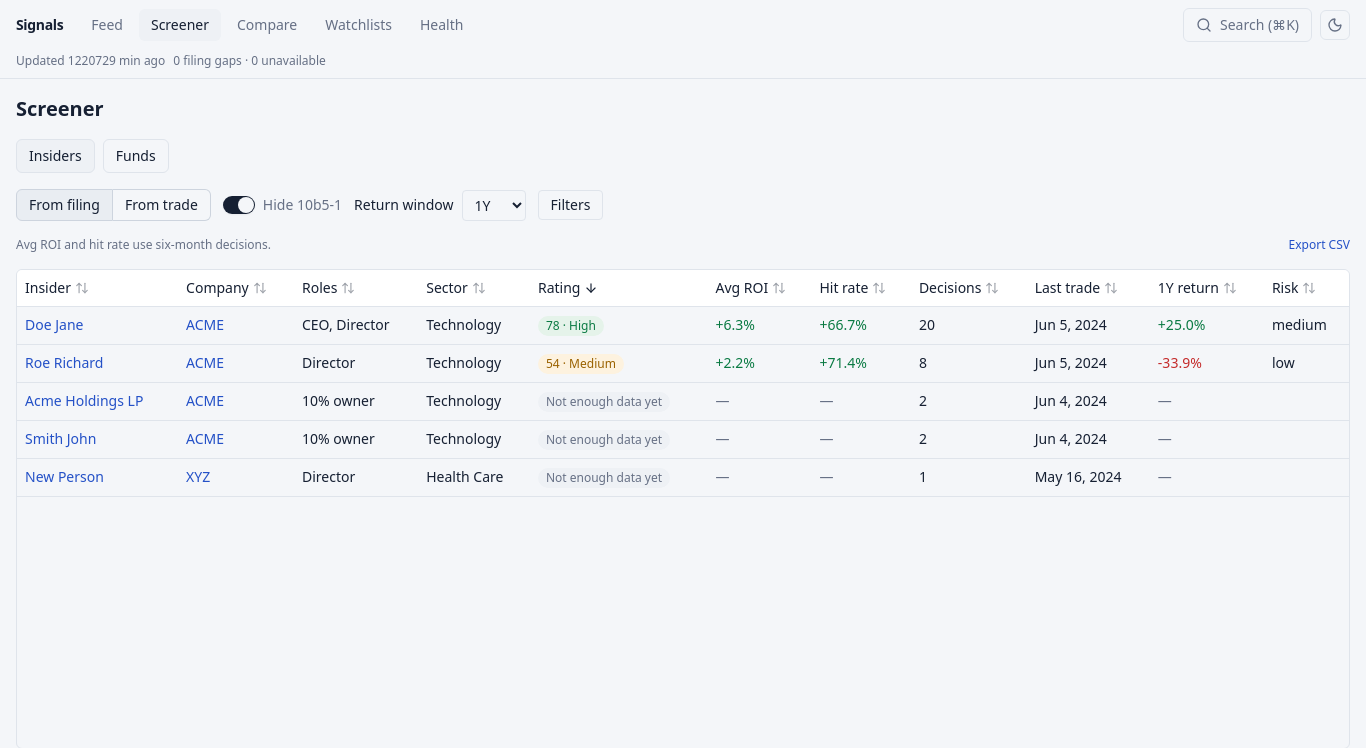
navigates an insider and a fund by CIK
Click the button "Search (⌘K)": [1248, 25] box [1183,8,1312,42]
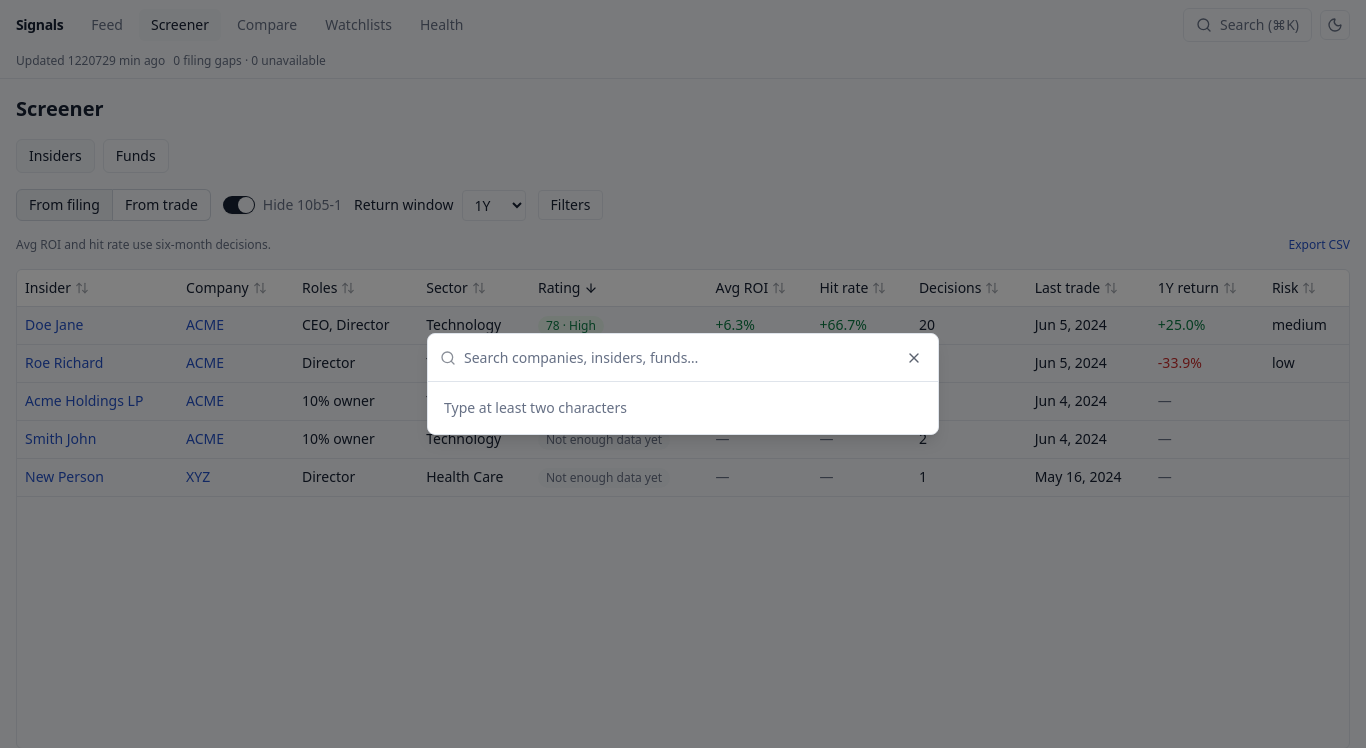
In the dropdown named "Search profiles": [695, 358] box [464,334,926,382], type "ac"
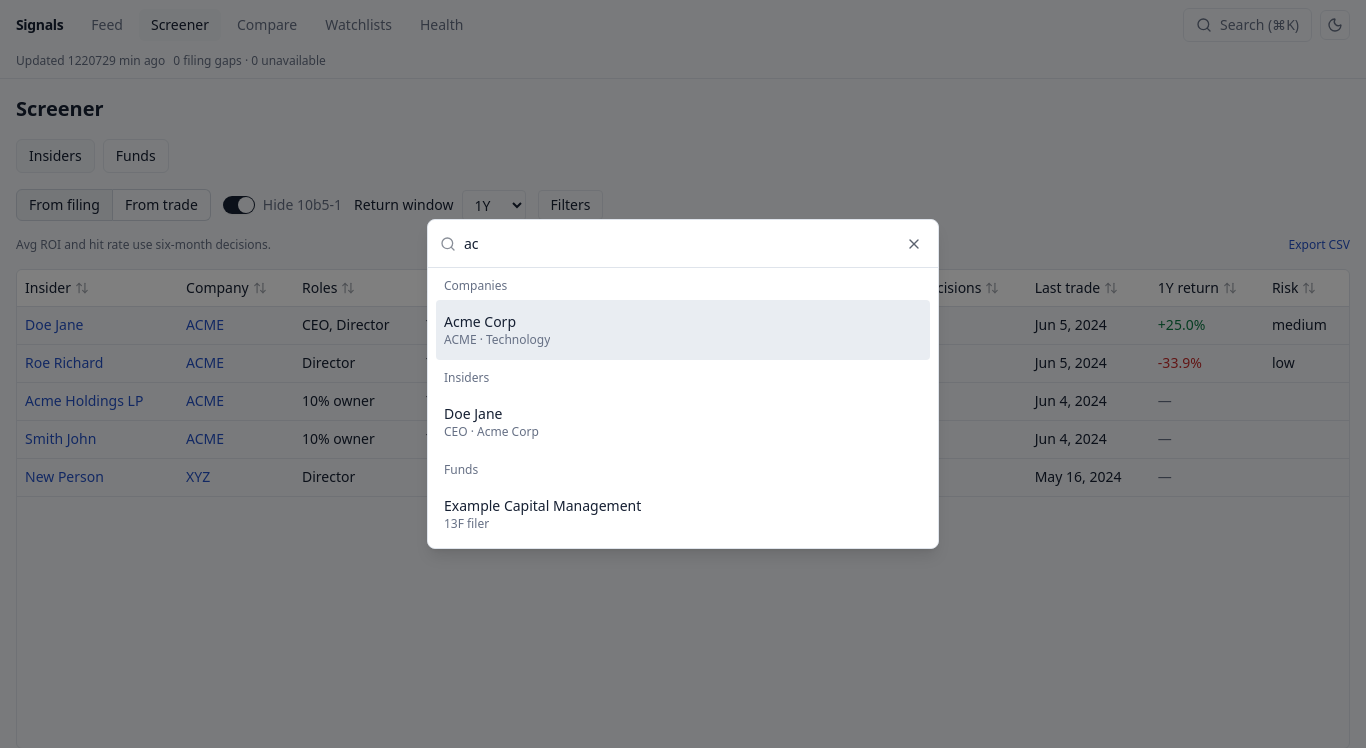
Click the option "Doe Jane CEO · Acme Corp": [491, 422] box [444,404,539,440]
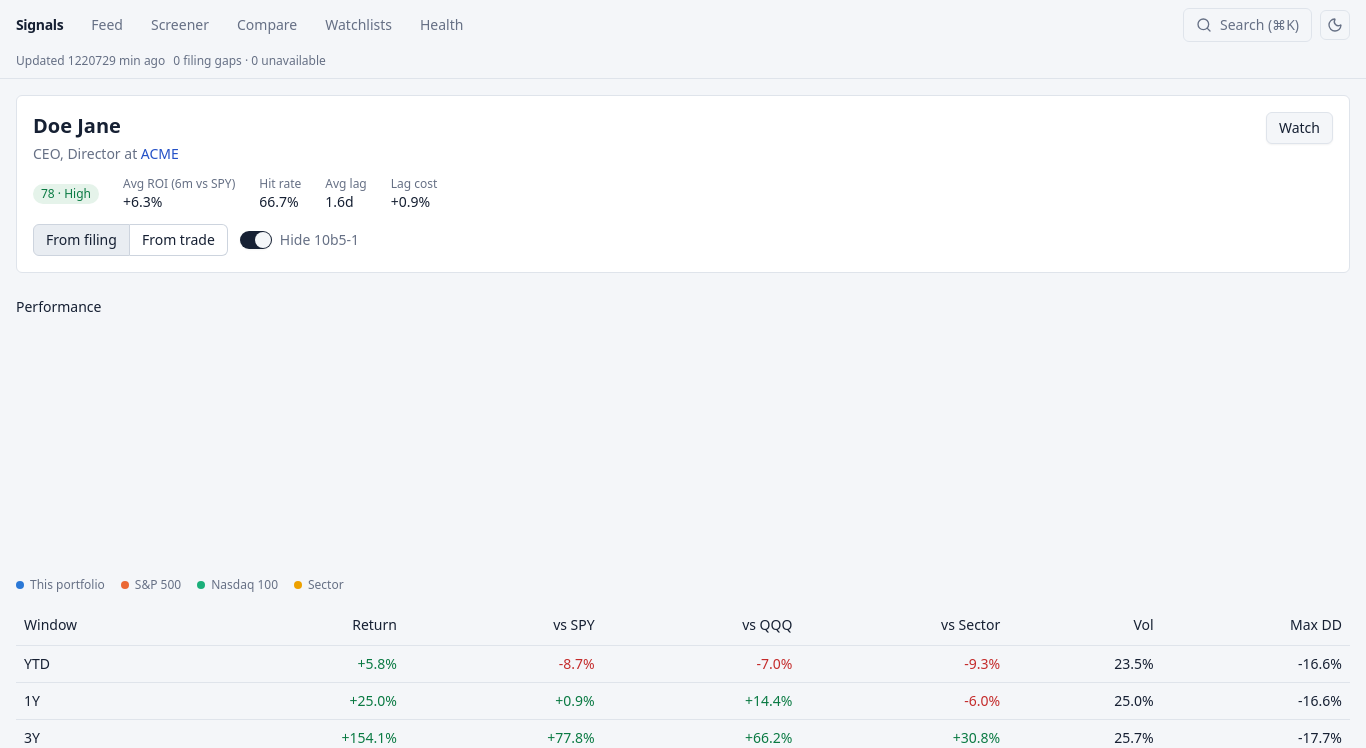
Result: the heading "Doe Jane" is shown at [33,112,121,139]
Type keys "{Control>}k{/Control}"
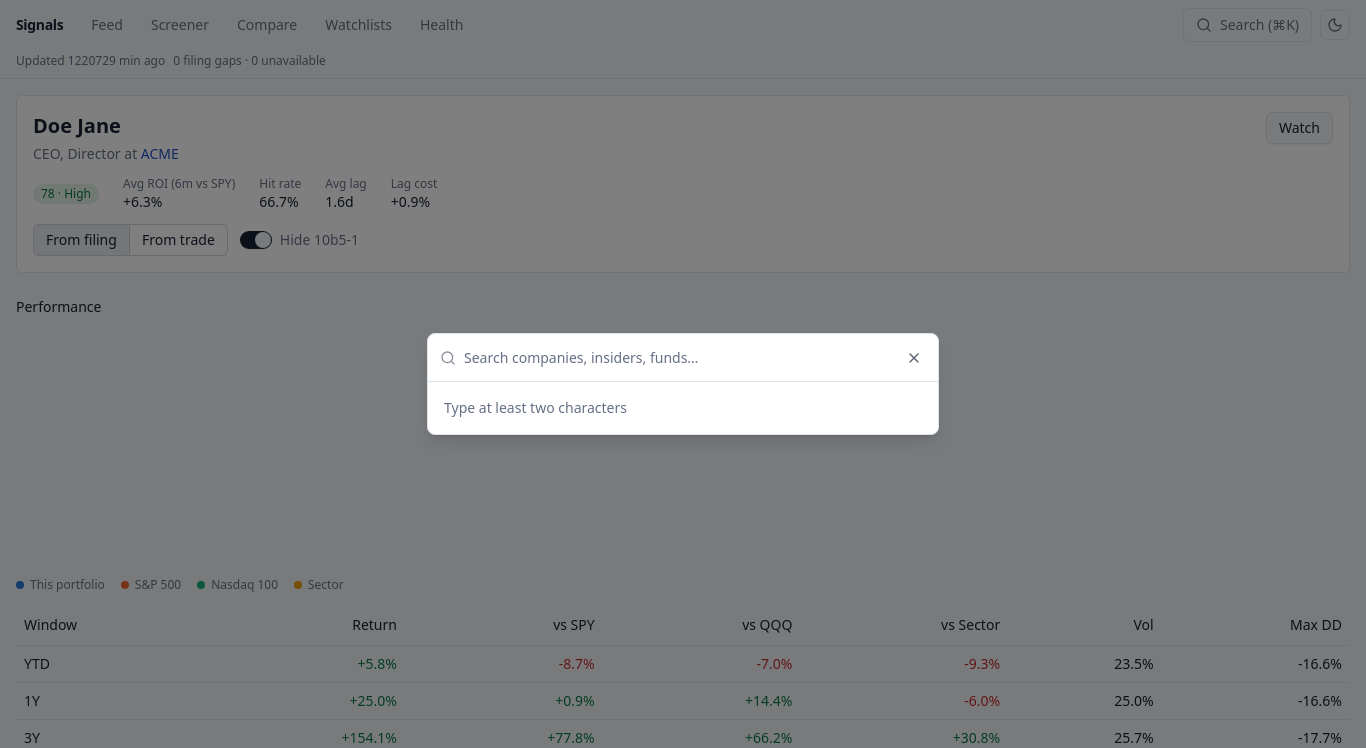
In the dropdown named "Search profiles": [695, 358] box [464,334,926,382], type "ac"
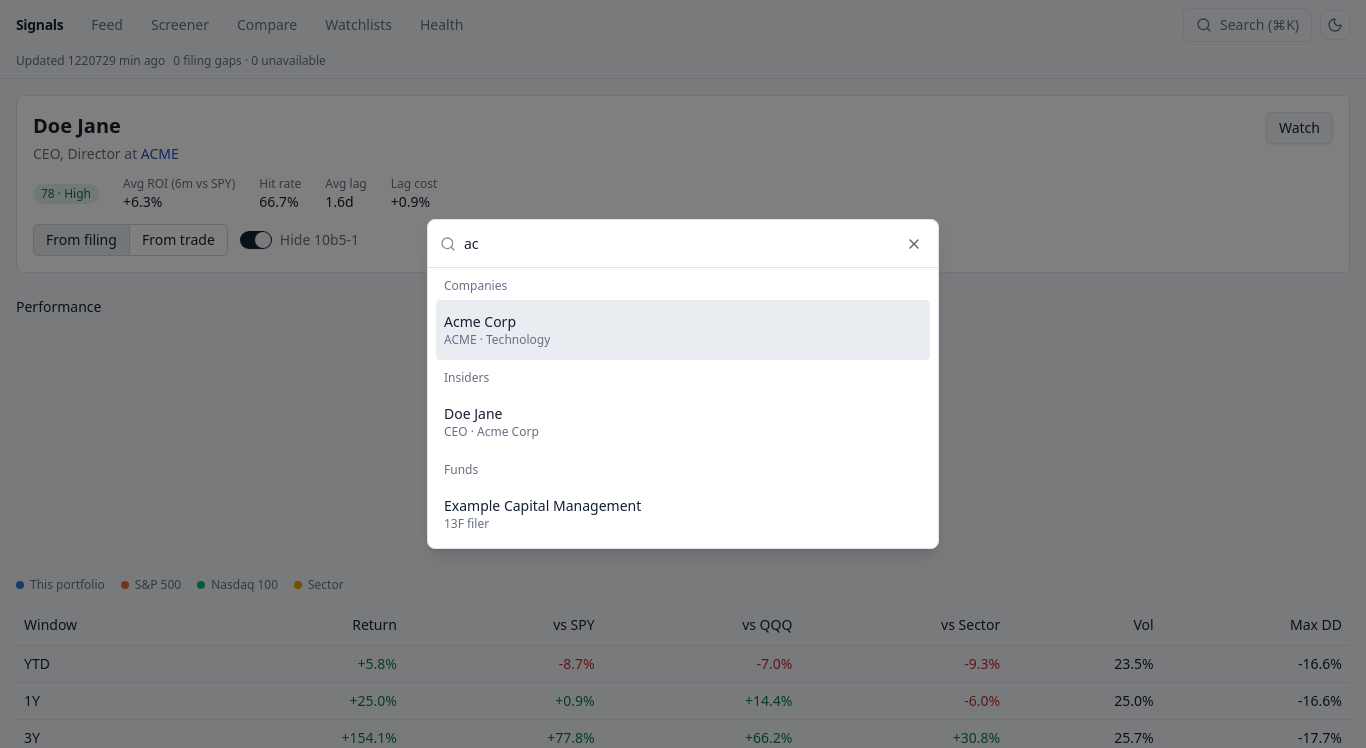
Click the option "Example Capital Management 13F filer": [543, 514] box [444,496,641,532]
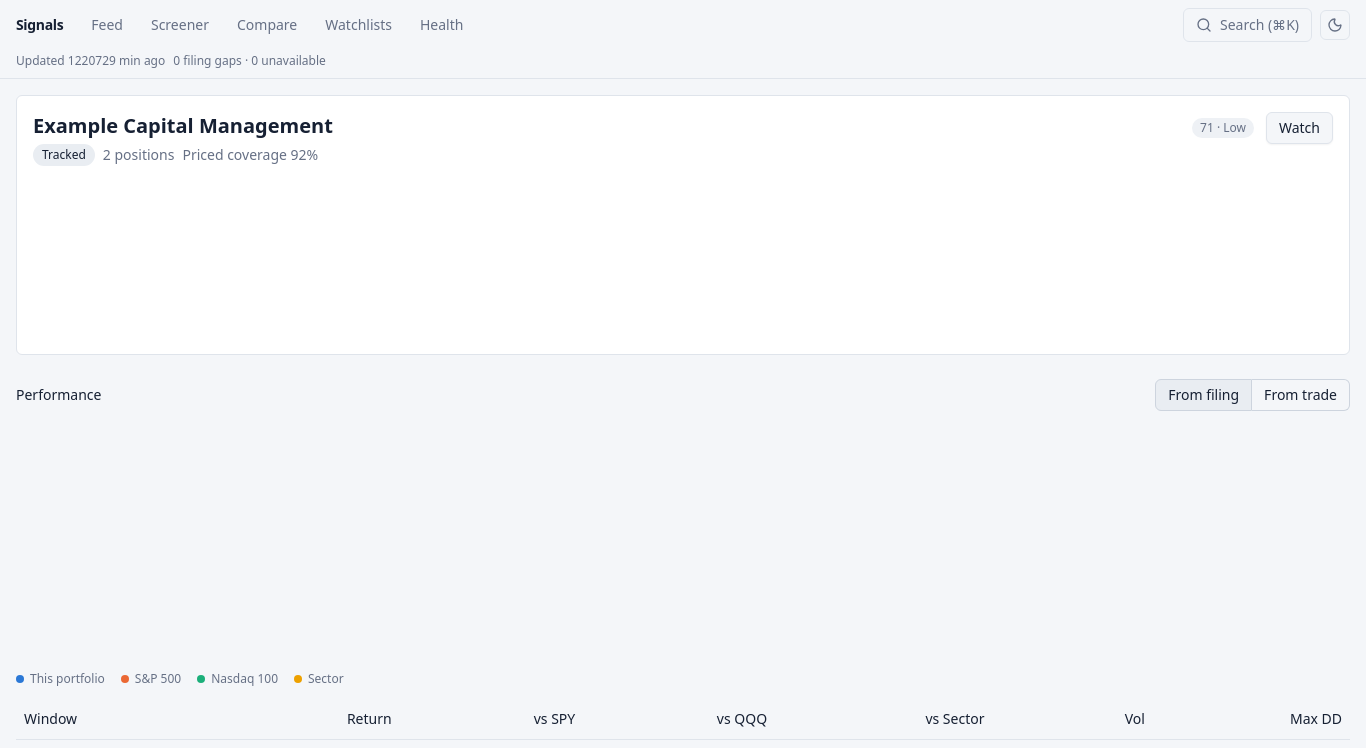
Result: the heading "Example Capital Management" is shown at [33,112,333,140]
